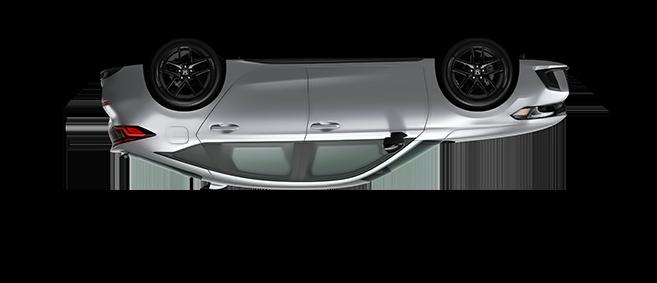Fender - -F-L-: (416, 56, 520, 146)
Fender - -R-L-: (133, 59, 247, 179)
Front bumper: (500, 57, 571, 118)
Headlight - -L-: (509, 103, 568, 122)
Passenger-s door - -F-L-: (290, 57, 433, 191)
Passenger-s door - -R-L-: (195, 56, 313, 191)
Rear bumper: (98, 57, 154, 120)
Rear light - -L-: (106, 125, 155, 153)
Side bumper - -L-: (221, 44, 437, 86)
Side mirror - -L-: (382, 131, 407, 155)
